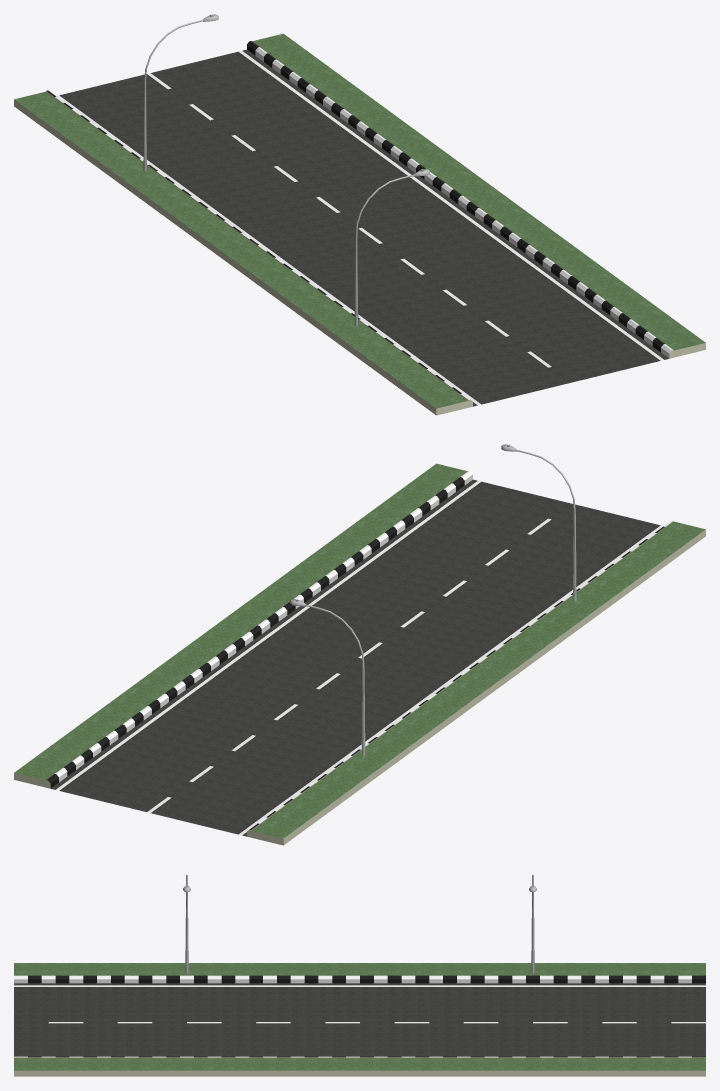
File: Road08.dae
3 renders of one model, top to bottom at view 1: azimuth 30°, elevation 25°; view 2: azimuth 150°, elevation 25°; view 3: azimuth 270°, elevation 25°, orthographic. The views are drawn at different scales.
Parts seen in each view (by area): view 1: Model; view 2: Model; view 3: Model.
Boxes of the visible parts, bbox=[...] form: Model: bbox=[14, 33, 705, 415]; Model: bbox=[14, 463, 705, 845]; Model: bbox=[14, 963, 705, 1076].
Bounding box in the file's own units: 442 × 1200 × 229.
7 materials, 2 textured.
